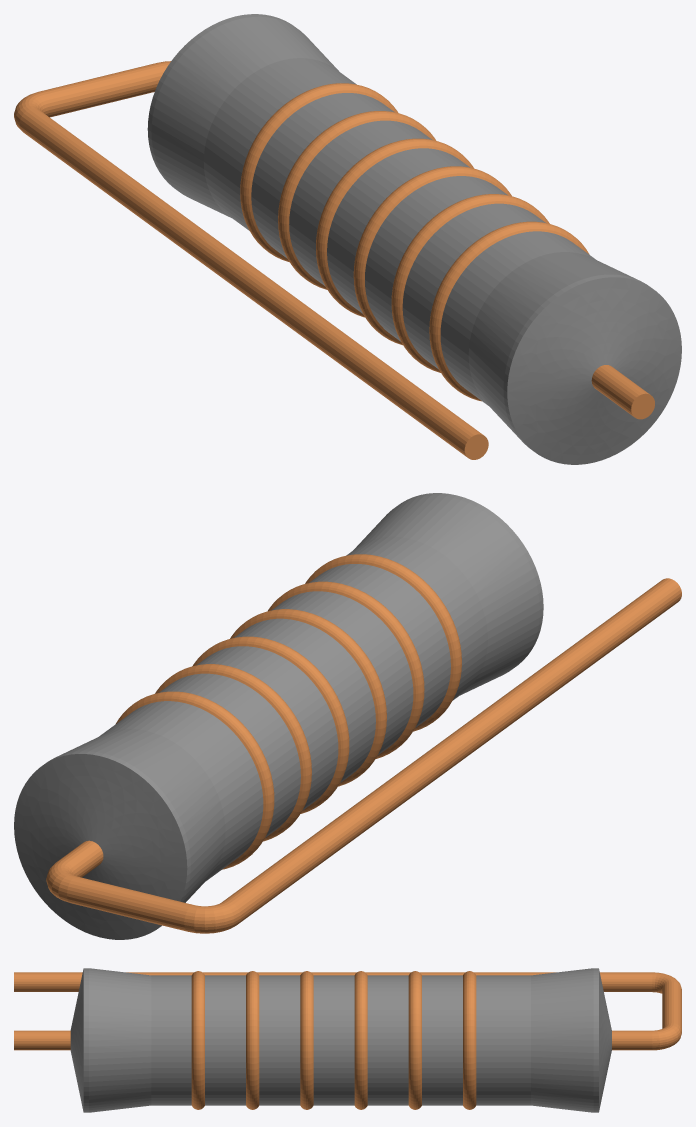
Rendered from L_Axial_L30.0mm_D8.0mm_P7.62mm_Vertical_Fastron_77A.glb.
The picture shows the model from 3 angles, top to bottom: view 1: azimuth 30°, elevation 25°; view 2: azimuth 150°, elevation 25°; view 3: azimuth 270°, elevation 25°; orthographic projection. The views are drawn at different scales.
Visible parts, largest first — view 1: Shape_IndexedFaceSet.002, Shape_IndexedFaceSet.025, Shape_IndexedFaceSet.018, Shape_IndexedFaceSet.017, Shape_IndexedFaceSet.004, Shape_IndexedFaceSet.005, Shape_IndexedFaceSet.007, Shape_IndexedFaceSet.011, Shape_IndexedFaceSet.015, Shape_IndexedFaceSet.013, Shape_IndexedFaceSet.009, Shape_IndexedFaceSet.023 (+9 smaller); view 2: Shape_IndexedFaceSet.020, Shape_IndexedFaceSet.025, Shape_IndexedFaceSet.004, Shape_IndexedFaceSet.017, Shape_IndexedFaceSet.018, Shape_IndexedFaceSet.015, Shape_IndexedFaceSet.009, Shape_IndexedFaceSet.011, Shape_IndexedFaceSet.013, Shape_IndexedFaceSet.007, Shape_IndexedFaceSet.005, Shape_IndexedFaceSet.023 (+11 smaller); view 3: Shape_IndexedFaceSet.018, Shape_IndexedFaceSet.004, Shape_IndexedFaceSet.017, Shape_IndexedFaceSet.009, Shape_IndexedFaceSet.011, Shape_IndexedFaceSet.013, Shape_IndexedFaceSet.005, Shape_IndexedFaceSet.007, Shape_IndexedFaceSet.015, Shape_IndexedFaceSet.025, Shape_IndexedFaceSet.006, Shape_IndexedFaceSet.010 (+13 smaller).
Boxes of the visible parts, x1=… form: Shape_IndexedFaceSet.002: x1=507, y1=277, x2=681, y2=464; Shape_IndexedFaceSet.025: x1=19, y1=108, x2=482, y2=457; Shape_IndexedFaceSet.018: x1=151, y1=16, x2=338, y2=217; Shape_IndexedFaceSet.017: x1=203, y1=58, x2=356, y2=230; Shape_IndexedFaceSet.004: x1=468, y1=252, x2=637, y2=441; Shape_IndexedFaceSet.005: x1=440, y1=231, x2=595, y2=405; Shape_IndexedFaceSet.007: x1=402, y1=203, x2=545, y2=369; Shape_IndexedFaceSet.011: x1=327, y1=148, x2=469, y2=313; Shape_IndexedFaceSet.015: x1=251, y1=93, x2=394, y2=258; Shape_IndexedFaceSet.013: x1=289, y1=120, x2=431, y2=285; Shape_IndexedFaceSet.009: x1=365, y1=176, x2=507, y2=341; Shape_IndexedFaceSet.023: x1=39, y1=63, x2=164, y2=117; Shape_IndexedFaceSet.020: x1=14, y1=754, x2=187, y2=939; Shape_IndexedFaceSet.025: x1=222, y1=578, x2=681, y2=924; Shape_IndexedFaceSet.004: x1=353, y1=495, x2=539, y2=695; Shape_IndexedFaceSet.017: x1=99, y1=701, x2=263, y2=881; Shape_IndexedFaceSet.018: x1=59, y1=729, x2=225, y2=902; Shape_IndexedFaceSet.015: x1=159, y1=673, x2=300, y2=837; Shape_IndexedFaceSet.009: x1=271, y1=591, x2=413, y2=755; Shape_IndexedFaceSet.011: x1=234, y1=618, x2=375, y2=782; Shape_IndexedFaceSet.013: x1=196, y1=646, x2=338, y2=809; Shape_IndexedFaceSet.007: x1=309, y1=564, x2=450, y2=727; Shape_IndexedFaceSet.005: x1=346, y1=536, x2=487, y2=700; Shape_IndexedFaceSet.023: x1=67, y1=876, x2=192, y2=931; Shape_IndexedFaceSet.018: x1=531, y1=968, x2=593, y2=1112; Shape_IndexedFaceSet.004: x1=89, y1=968, x2=151, y2=1112; Shape_IndexedFaceSet.017: x1=476, y1=975, x2=530, y2=1105; Shape_IndexedFaceSet.009: x1=259, y1=975, x2=300, y2=1105; Shape_IndexedFaceSet.011: x1=313, y1=975, x2=354, y2=1105; Shape_IndexedFaceSet.013: x1=367, y1=975, x2=408, y2=1105; Shape_IndexedFaceSet.005: x1=151, y1=975, x2=191, y2=1105; Shape_IndexedFaceSet.007: x1=205, y1=975, x2=245, y2=1105; Shape_IndexedFaceSet.015: x1=422, y1=975, x2=462, y2=1105; Shape_IndexedFaceSet.025: x1=14, y1=972, x2=652, y2=991; Shape_IndexedFaceSet.006: x1=191, y1=971, x2=204, y2=1109; Shape_IndexedFaceSet.010: x1=300, y1=971, x2=313, y2=1109.
Bounding box in the file's own units: 4.79 × 3.15 × 14.55.
